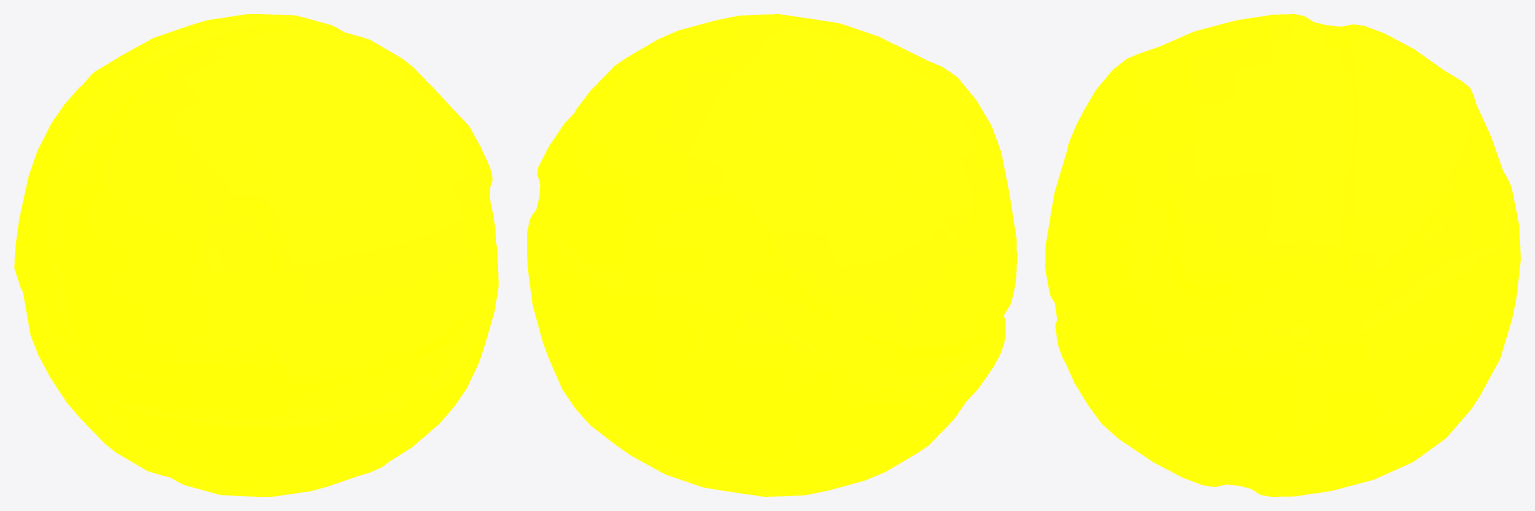
Rendered from planet_33.glb.
3 renders of one model, left to right at view 1: azimuth 30°, elevation 25°; view 2: azimuth 150°, elevation 25°; view 3: azimuth 270°, elevation 25°, orthographic.
Visible parts, largest first — view 1: Cube.040; view 2: Cube.040; view 3: Cube.040.
Boxes of the visible parts, x1,y1,x2,y2 form: Cube.040: (14,14,498,496); Cube.040: (527,14,1016,496); Cube.040: (1045,14,1520,496).
Bounding box in the file's own units: 2.37 × 2.34 × 2.33.
1 material, 1 textured.
